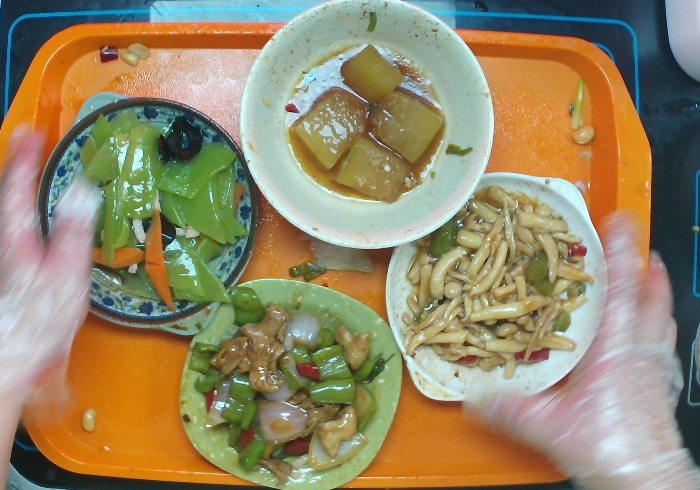NLDX-Bai_Se_Shuang_Er_Die: (382, 167, 612, 408)
NLDX-Bai_Se_Yuan_Wan: (236, 1, 499, 251)
NLDX-Lv_Hua_Fang_Die: (175, 276, 405, 490)
NLDX-Qing_Hua_Shuang_Er_Die: (33, 88, 260, 343)
